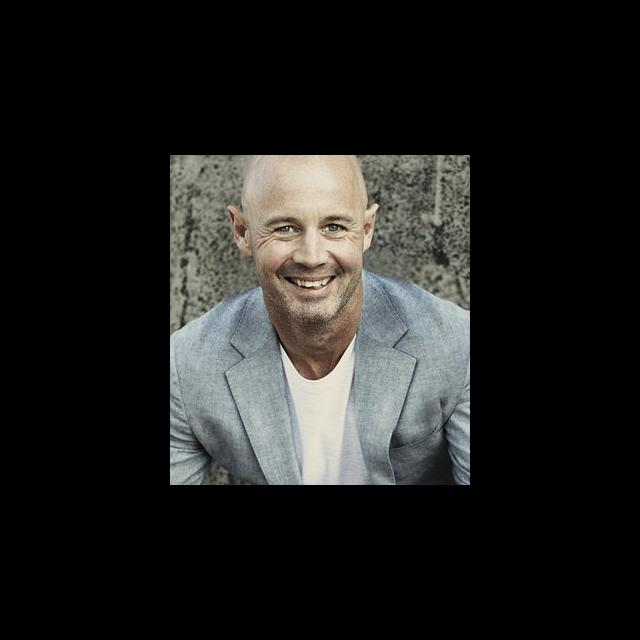male: (224, 155, 380, 326)
